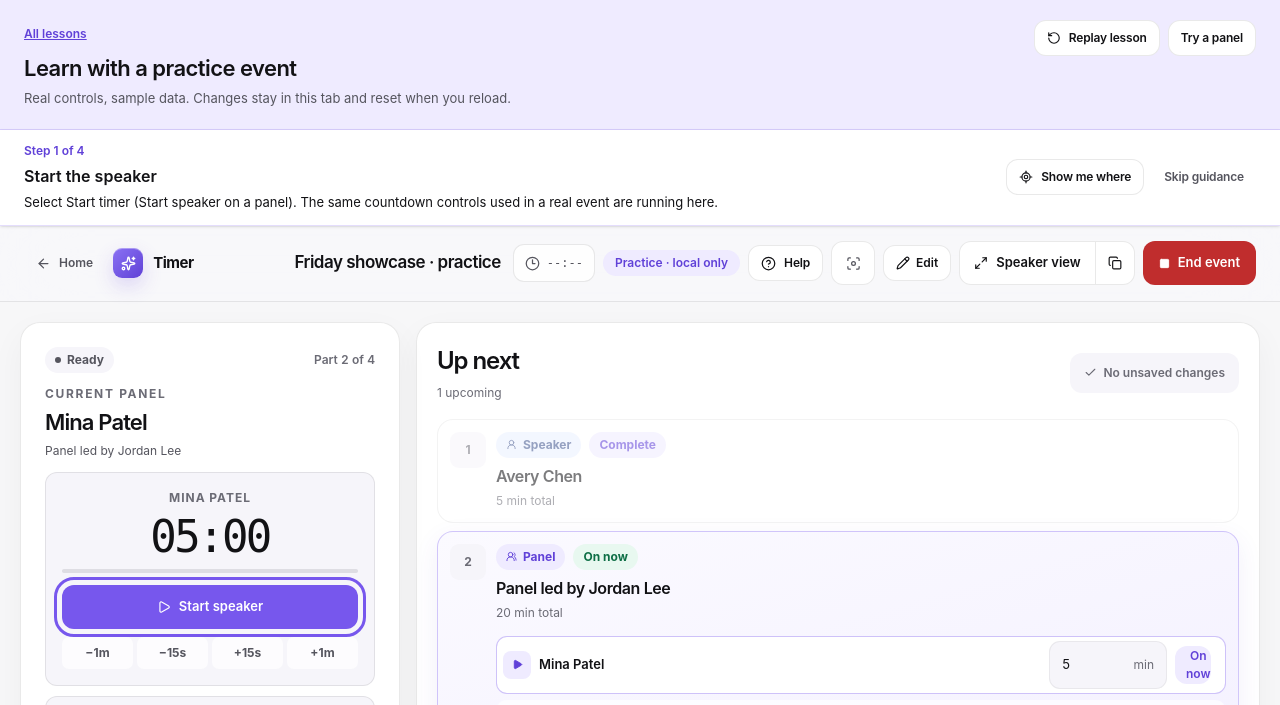
Timer learning area › keeps a panel running when only the speaker is paused
The width and height of the screenshot is (1280, 705).
Click the button "Start speaker" at {"x": 210, "y": 607}, box 62,585 -> 358,629
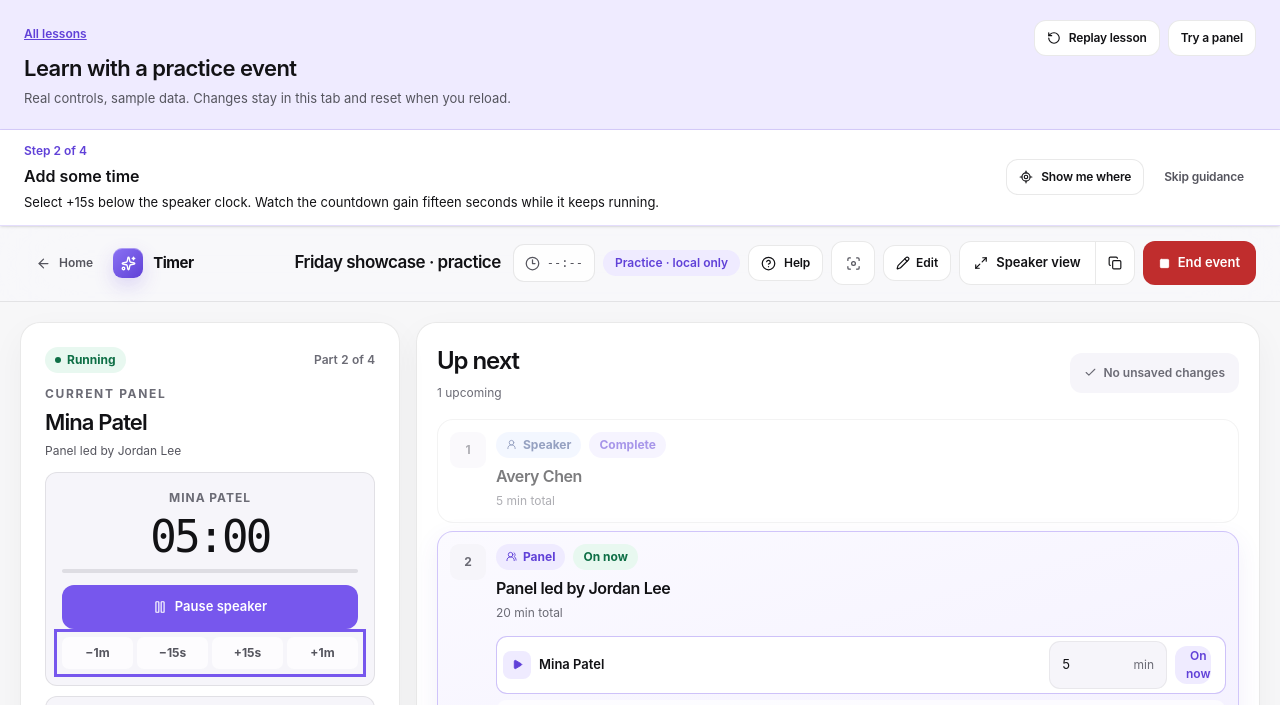
Click the button named "Add fifteen seconds" at {"x": 248, "y": 653}, box 212,637 -> 283,669
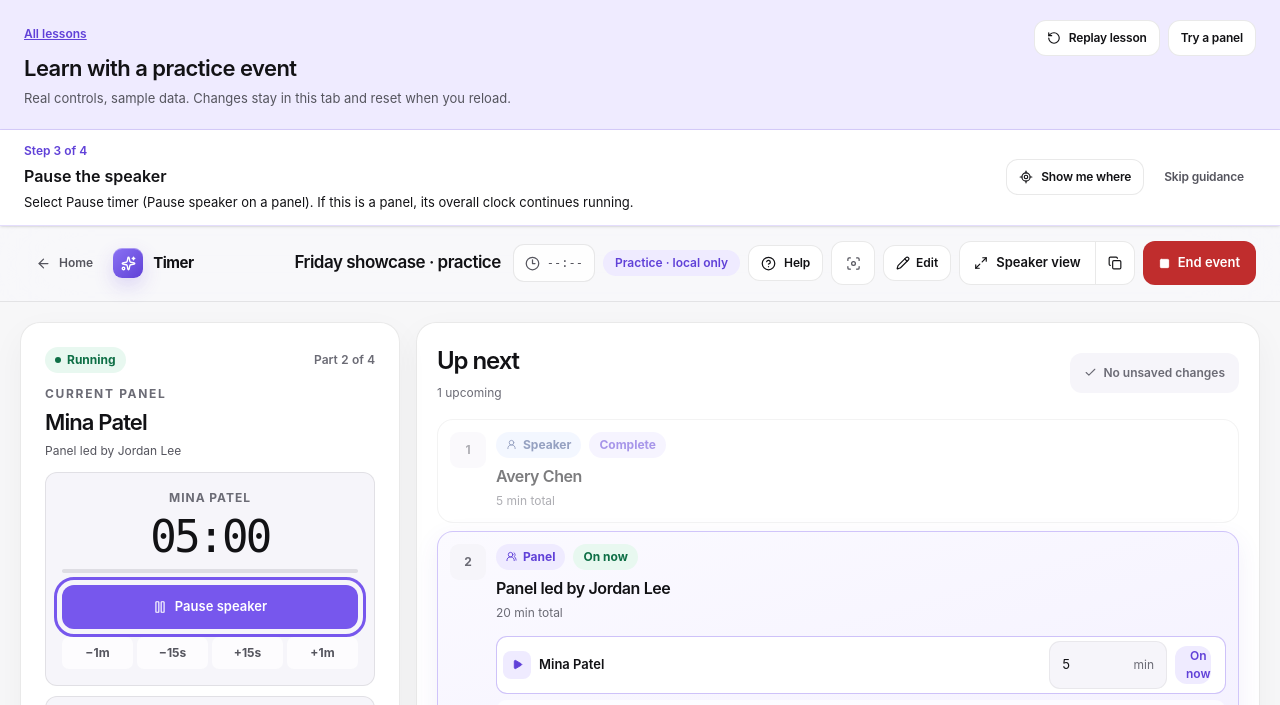
Click the button "Pause speaker" at {"x": 210, "y": 607}, box 62,585 -> 358,629
(page scrolled)
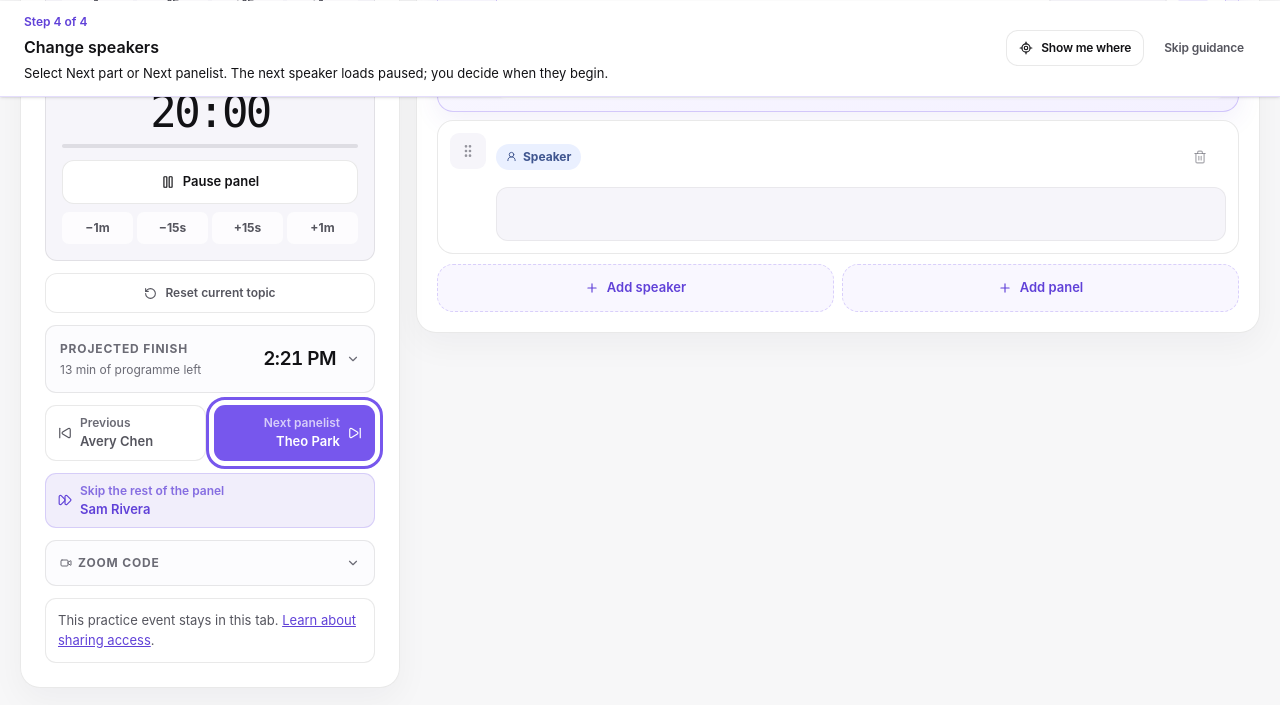
Now the button "Pause panel" is shown, box 62,160 -> 358,204
Click the button "Next panelist Theo Park" at {"x": 294, "y": 433}, box 214,405 -> 375,461
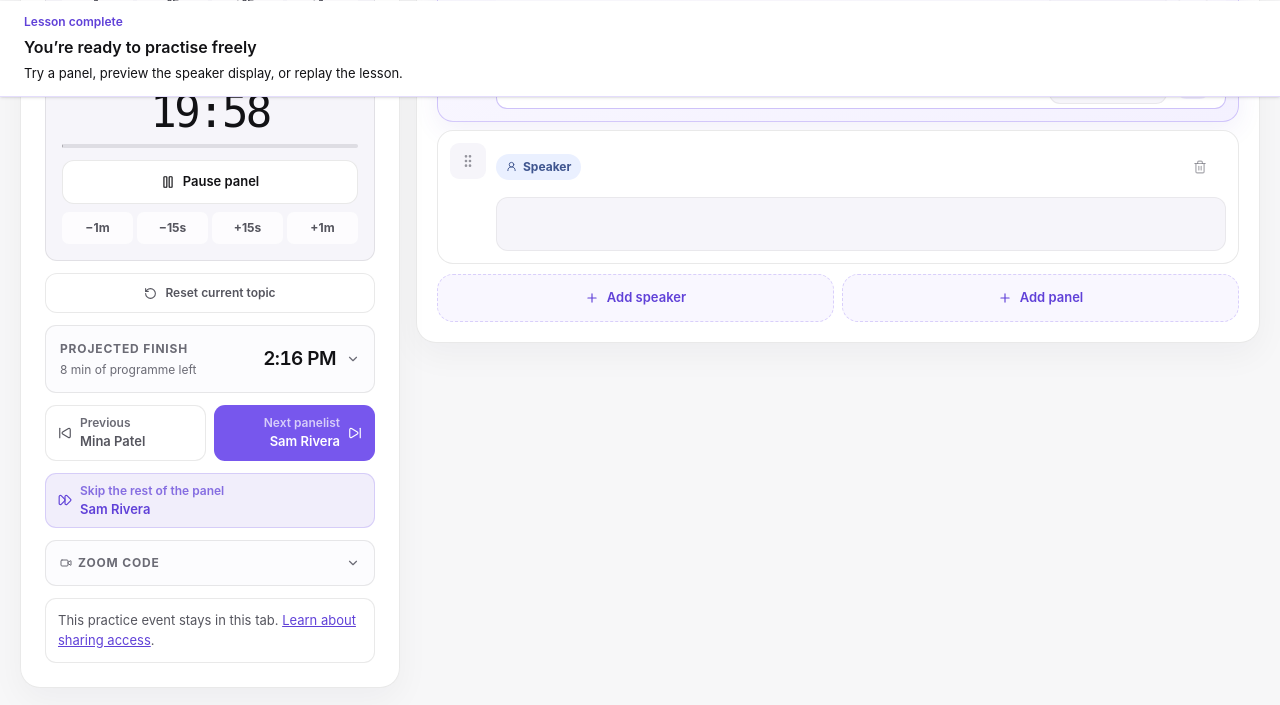
Now the button "Pause panel" is shown, box 62,160 -> 358,204
Now the text "Lesson complete" is shown, box 24,13 -> 123,28
